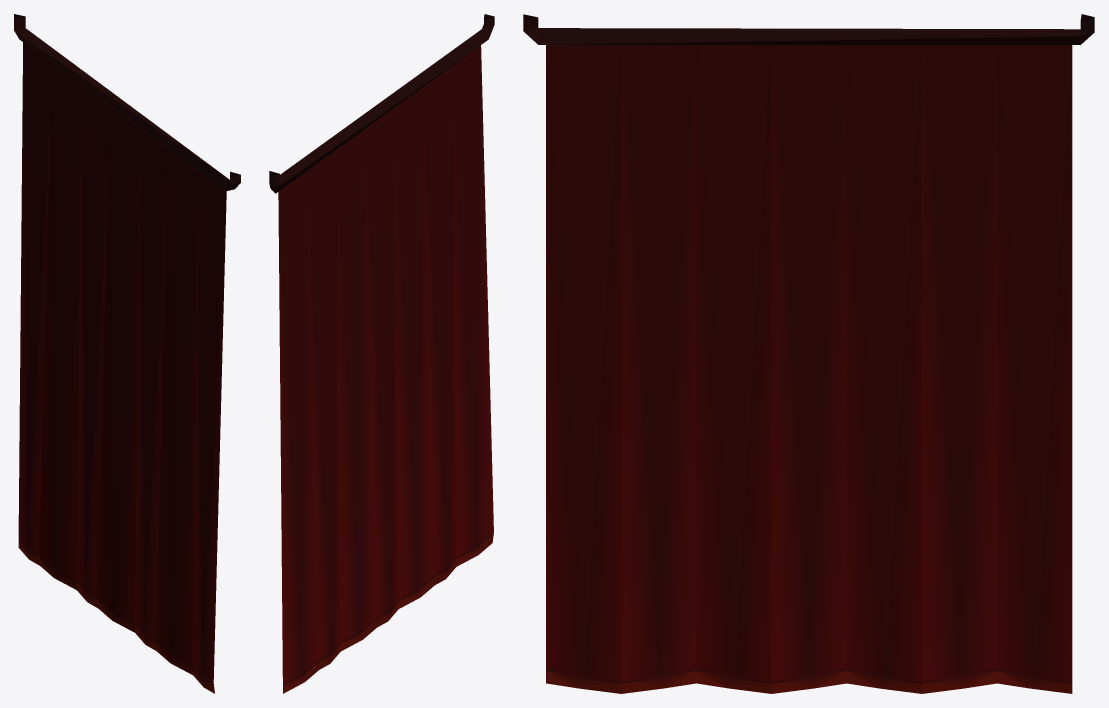
File: Curtains.fbx
3 renders of one model, left to right at view 1: azimuth 30°, elevation 25°; view 2: azimuth 150°, elevation 25°; view 3: azimuth 270°, elevation 25°, orthographic. The views are drawn at different scales.
Parts seen in each view (by area): view 1: Curtains; view 2: Curtains; view 3: Curtains.
Part boxes in pixels (x1=…): Curtains: x1=14, y1=14, x2=240, y2=693; Curtains: x1=269, y1=14, x2=494, y2=693; Curtains: x1=523, y1=14, x2=1094, y2=693.
Size of the model in its own units: 11.53 by 304 by 232.
